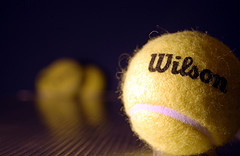tennis ball: (119, 29, 240, 155)
